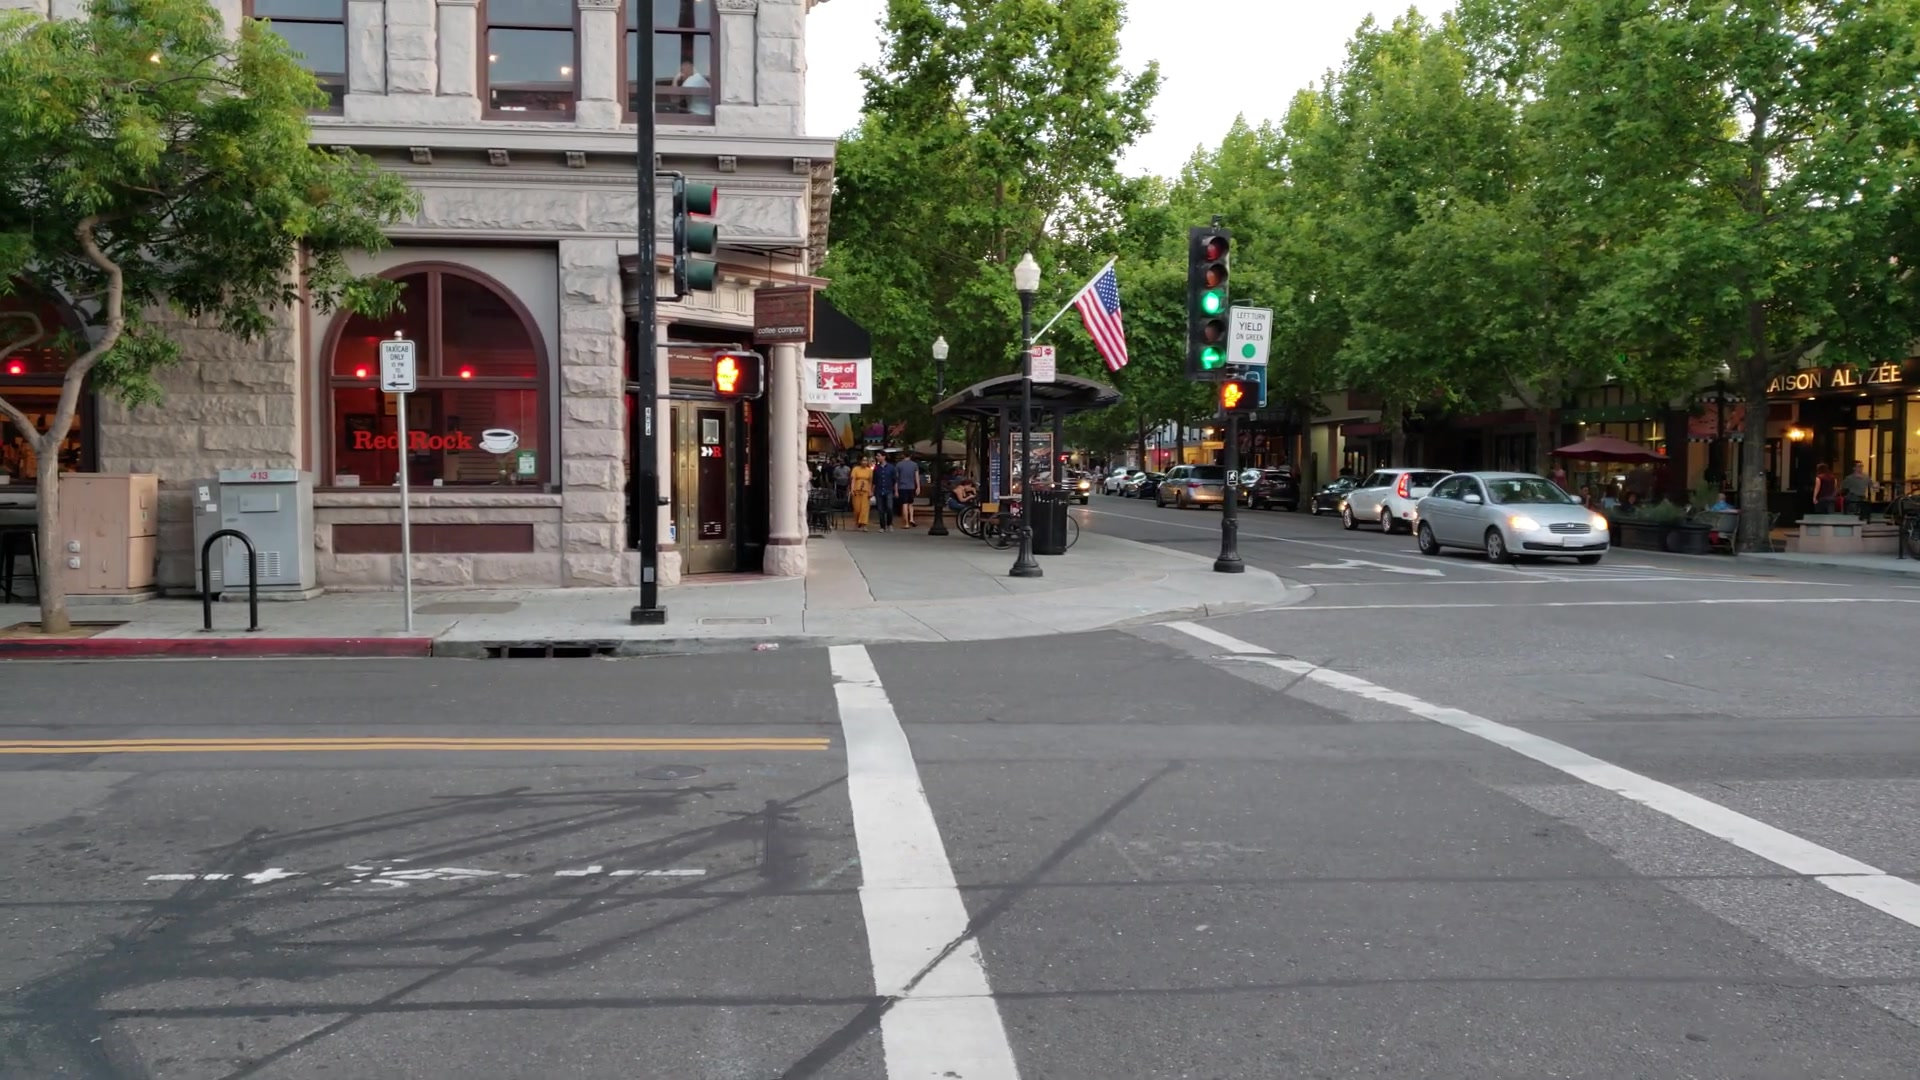vehicle: (1414, 469, 1611, 568), (1154, 464, 1228, 509)
